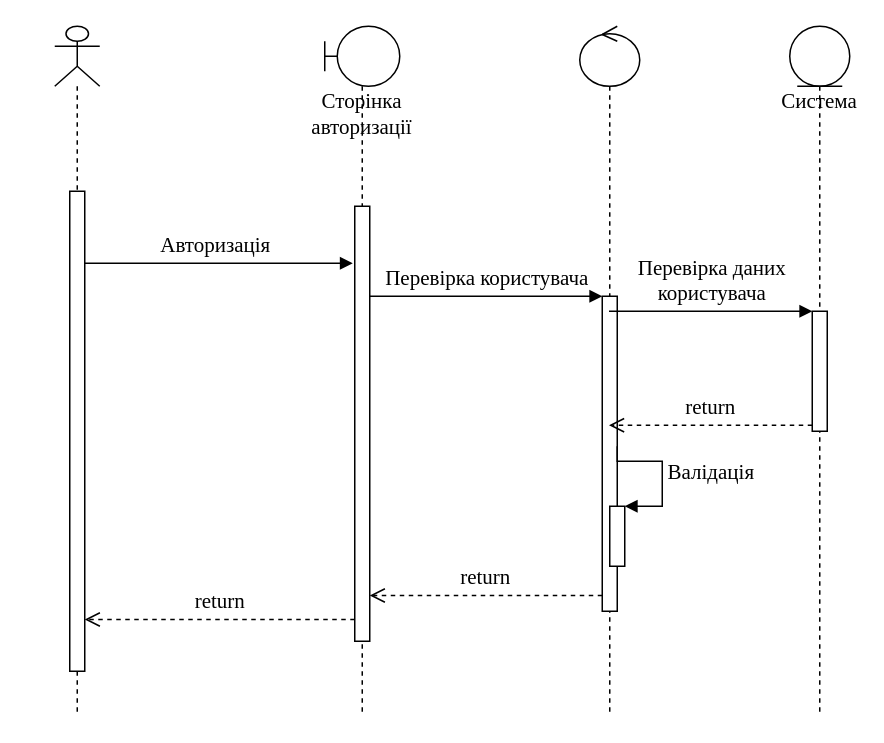
Image size: 884x743. Some labels were removed from this diagram. Here are the shapes that lost their labels. From the top down, the box of each, then its label:
(53, 25, 100, 716): Користувач
(578, 25, 640, 716): Менеджер перевірки даних
